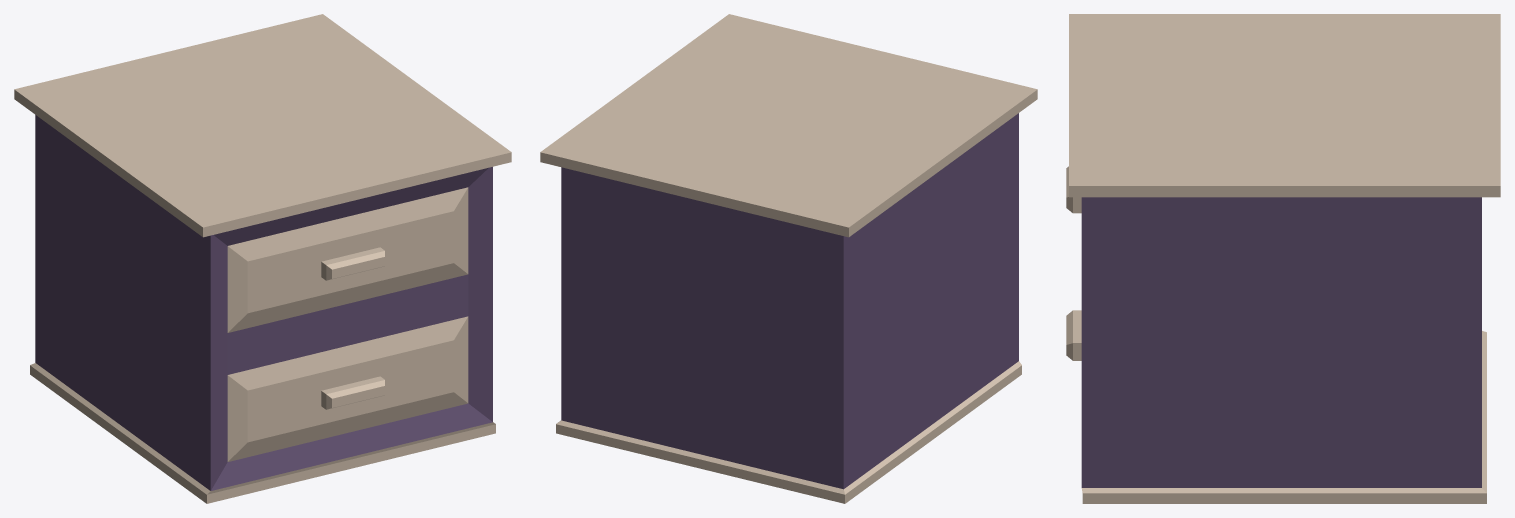
The model's file is MS_Cabinet01_Default01.fbx.
3 renders of one model, left to right at view 1: azimuth 30°, elevation 25°; view 2: azimuth 150°, elevation 25°; view 3: azimuth 270°, elevation 25°, orthographic. The views are drawn at different scales.
Parts seen in each view (by area): view 1: MS_Cabinet01_Default01; view 2: MS_Cabinet01_Default01; view 3: MS_Cabinet01_Default01.
Part boxes in pixels (x1,y1,x2,y2): MS_Cabinet01_Default01: (14,14,511,503); MS_Cabinet01_Default01: (540,14,1037,503); MS_Cabinet01_Default01: (1066,14,1500,503).
Size of the model in its own units: 147 by 129 by 157.
